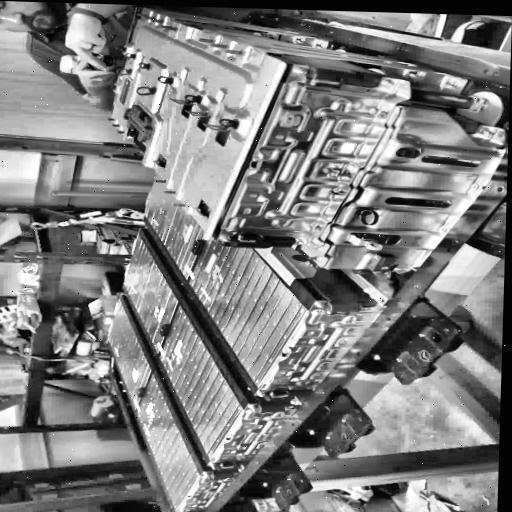battery_module: (188, 214, 308, 388), (158, 303, 242, 459), (135, 373, 200, 510), (124, 233, 179, 354), (106, 298, 150, 409)
